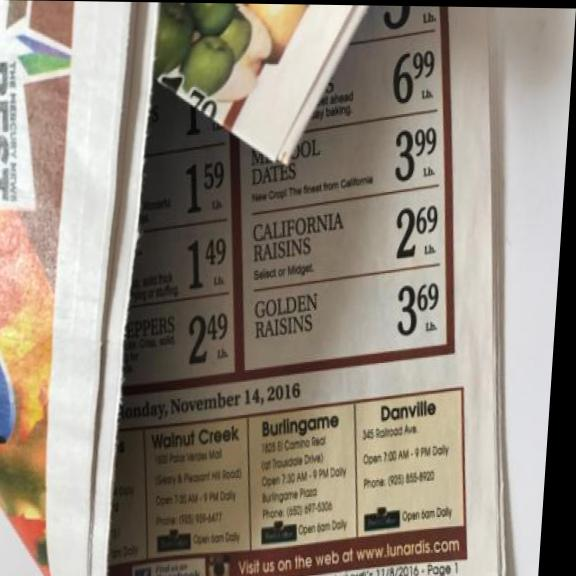Kertas: (0, 0, 553, 576)
